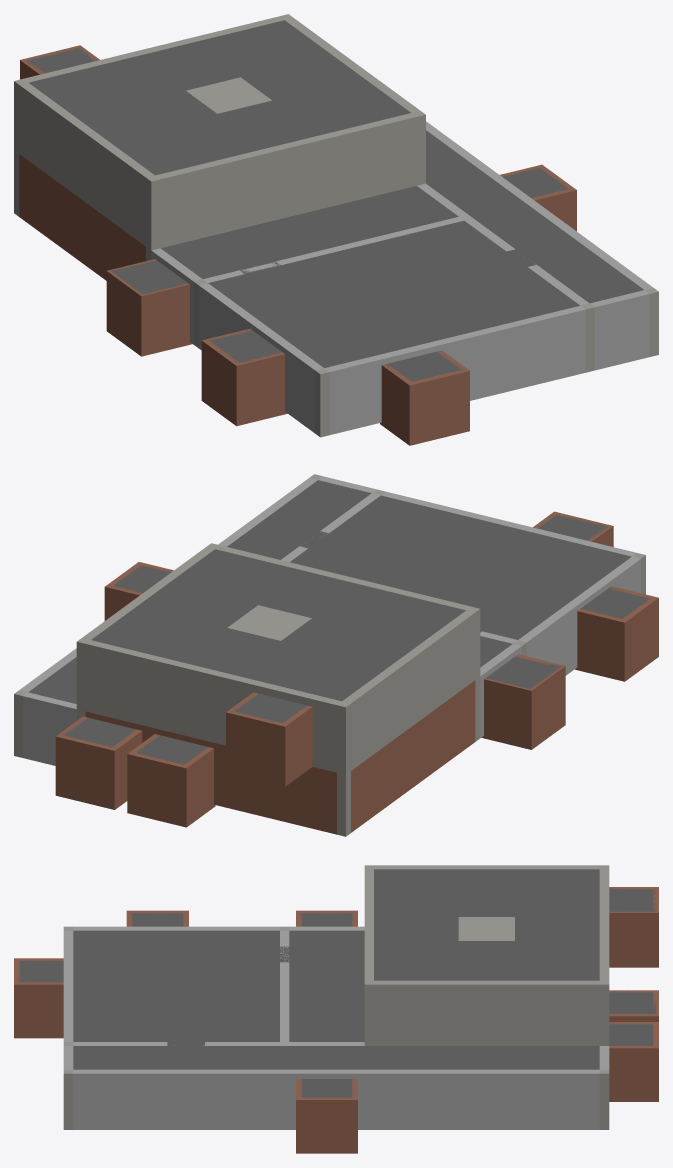
The model's file is draft_arena.glb.
The picture shows the model from 3 angles, top to bottom: view 1: azimuth 30°, elevation 25°; view 2: azimuth 150°, elevation 25°; view 3: azimuth 270°, elevation 25°; orthographic projection. The views are drawn at different scales.
Visible parts, largest first — view 1: wall__e1_1__block, ceiling__a0_12__ceil, wall_concrete__c0_1__block, ceiling__d0_10__ceil, ceiling__b0_3__ceil, ceiling__c0_2__ceil, ceiling__c0_6__ceil, brick__c0_1__block, ceiling__c0_7__ceil, wall_green__c0_1__block, brick__dehors_5__wall, brick__dehors_4__wall (+12 smaller); view 2: wall__e1_1__block, ceiling__a0_12__ceil, brick__c0_1__block, ceiling__c0_2__ceil, ceiling__c0_6__ceil, ceiling__c0_7__ceil, wall_concrete__c0_1__block, ceiling__b0_3__ceil, brick__dehors_6__wall, brick__dehors_0__wall, brick__dehors_4__wall, brick__dehors_2__wall (+17 smaller); view 3: wall_green__c0_1__block, ceiling__a0_12__ceil, wall__e1_1__block, ceiling__b0_3__ceil, ceiling__d0_10__ceil, ceiling__c0_2__ceil, ceiling__c0_6__ceil, ceiling__c0_7__ceil, wall_concrete__c0_1__block, ceiling__e1_1__ceil, brick__dehors_3__wall, brick__dehors_5__wall (+13 smaller).
Boxes of the visible parts, x1=… form: wall__e1_1__block: x1=14, y1=14, x2=425, y2=250; ceiling__a0_12__ceil: x1=208, y1=220, x2=579, y2=367; wall_concrete__c0_1__block: x1=199, y1=217, x2=589, y2=434; ceiling__d0_10__ceil: x1=161, y1=186, x2=458, y2=278; ceiling__b0_3__ceil: x1=426, y1=130, x2=643, y2=303; ceiling__c0_2__ceil: x1=120, y1=20, x2=331, y2=94; ceiling__c0_6__ceil: x1=241, y1=55, x2=410, y2=135; brick__c0_1__block: x1=19, y1=154, x2=145, y2=280; ceiling__c0_7__ceil: x1=81, y1=99, x2=246, y2=175; wall_green__c0_1__block: x1=417, y1=121, x2=653, y2=370; brick__dehors_5__wall: x1=380, y1=350, x2=469, y2=445; brick__dehors_4__wall: x1=201, y1=328, x2=287, y2=426; wall__e1_1__block: x1=76, y1=543, x2=480, y2=774; ceiling__a0_12__ceil: x1=290, y1=495, x2=631, y2=639; brick__c0_1__block: x1=85, y1=680, x2=475, y2=834; ceiling__c0_2__ceil: x1=91, y1=606, x2=298, y2=679; ceiling__c0_6__ceil: x1=138, y1=549, x2=304, y2=627; ceiling__c0_7__ceil: x1=304, y1=588, x2=465, y2=663; wall_concrete__c0_1__block: x1=281, y1=491, x2=640, y2=675; ceiling__b0_3__ceil: x1=28, y1=480, x2=371, y2=703; brick__dehors_6__wall: x1=226, y1=692, x2=312, y2=786; brick__dehors_0__wall: x1=127, y1=734, x2=215, y2=827; brick__dehors_4__wall: x1=575, y1=586, x2=658, y2=681; brick__dehors_2__wall: x1=481, y1=654, x2=565, y2=749; wall_green__c0_1__block: x1=63, y1=1042, x2=609, y2=1129; ceiling__a0_12__ceil: x1=73, y1=930, x2=279, y2=1041; wall__e1_1__block: x1=364, y1=865, x2=609, y2=1045; ceiling__b0_3__ceil: x1=73, y1=1046, x2=599, y2=1069; ceiling__d0_10__ceil: x1=289, y1=930, x2=364, y2=1041; ceiling__c0_2__ceil: x1=515, y1=909, x2=599, y2=980; ceiling__c0_6__ceil: x1=374, y1=941, x2=514, y2=980; ceiling__c0_7__ceil: x1=374, y1=869, x2=505, y2=908; wall_concrete__c0_1__block: x1=63, y1=926, x2=289, y2=1045; ceiling__e1_1__ceil: x1=505, y1=869, x2=599, y2=908; brick__dehors_3__wall: x1=296, y1=1079, x2=357, y2=1153; brick__dehors_5__wall: x1=14, y1=958, x2=63, y2=1038.
Size of what is drawn, in the model's own units: 23.8 by 7.05 by 34.3.
